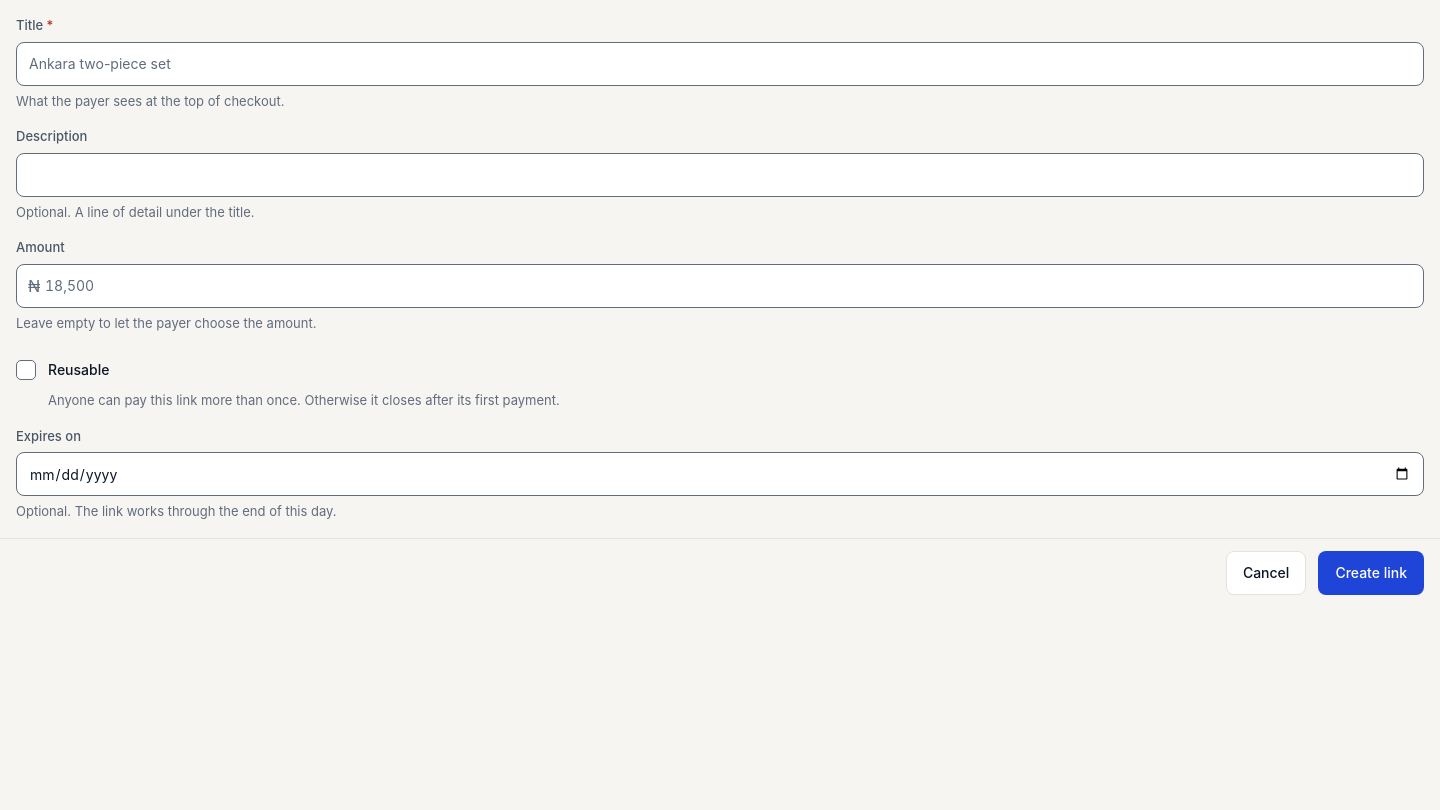
CreateLinkForm — Done when: validation errors are inline › shows every problem at once, each beside its own field
The image size is (1440, 810).
In the field labelled "Amount": (720, 286) x1=16 y1=264 x2=1424 y2=308, type "abc"
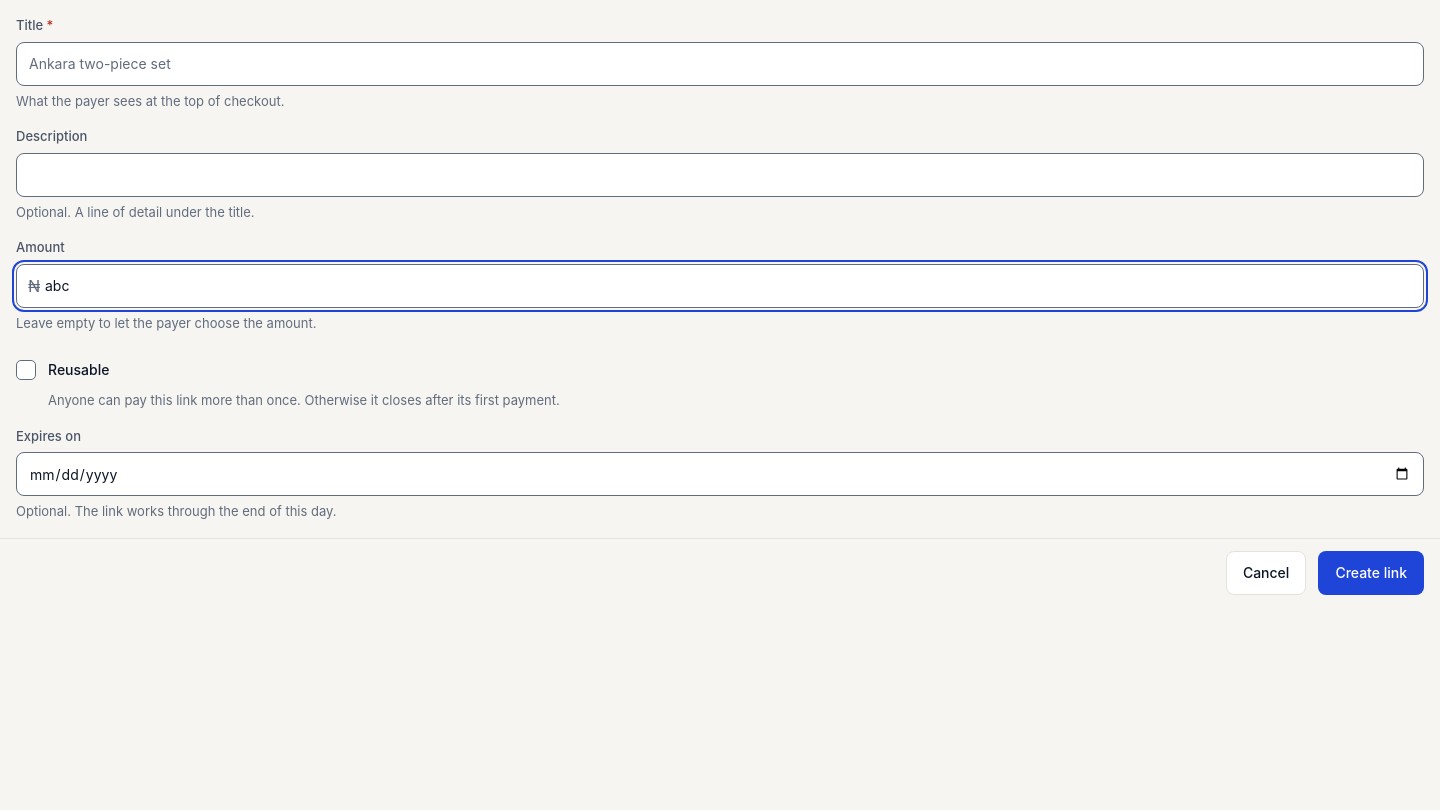
Click the button "Create link": (1371, 572) x1=1318 y1=550 x2=1424 y2=594
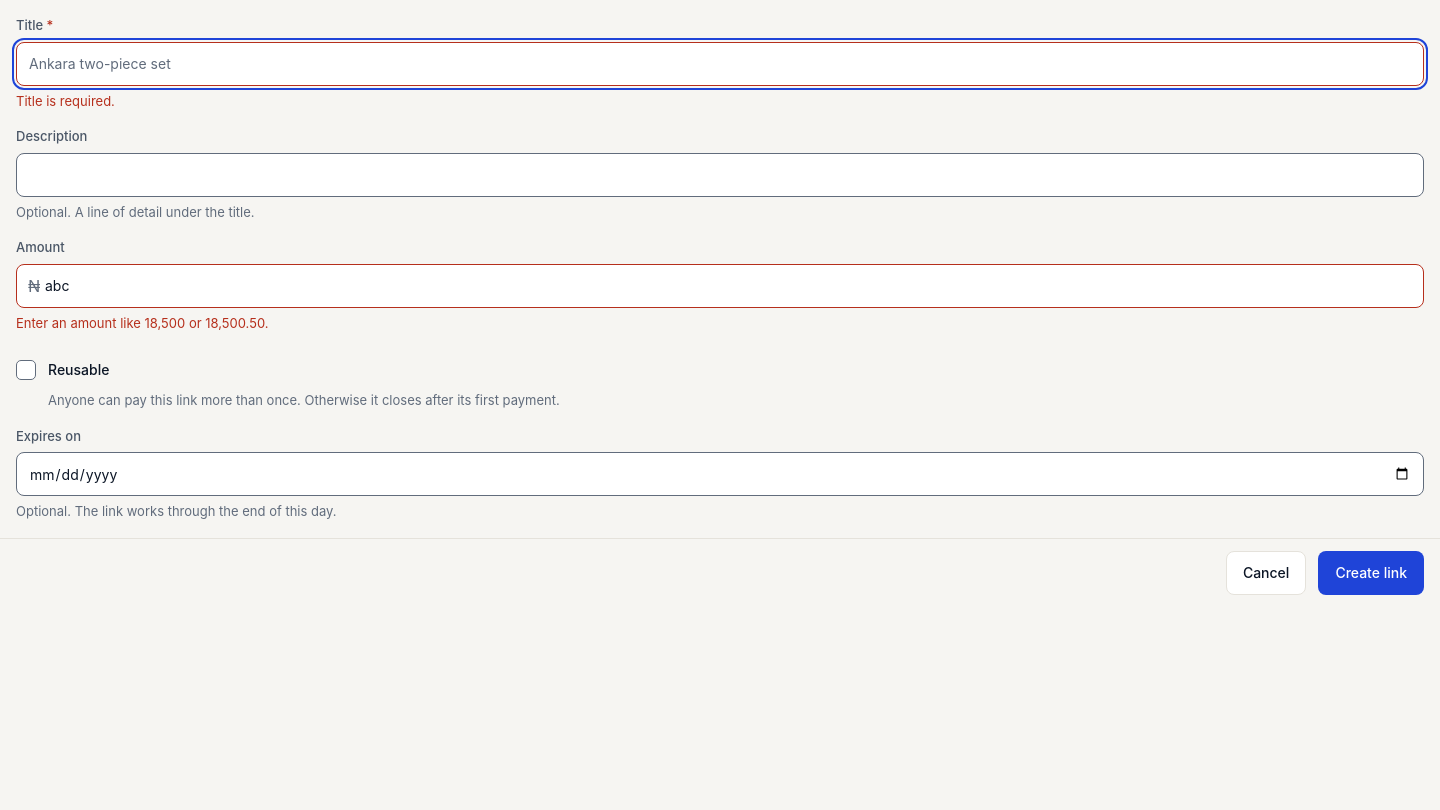
Expected: the text "Title is required." is shown, x1=16 y1=92 x2=115 y2=108
Expected: the text "Enter an amount like 18,500 or 18,500.50." is shown, x1=16 y1=314 x2=268 y2=330
